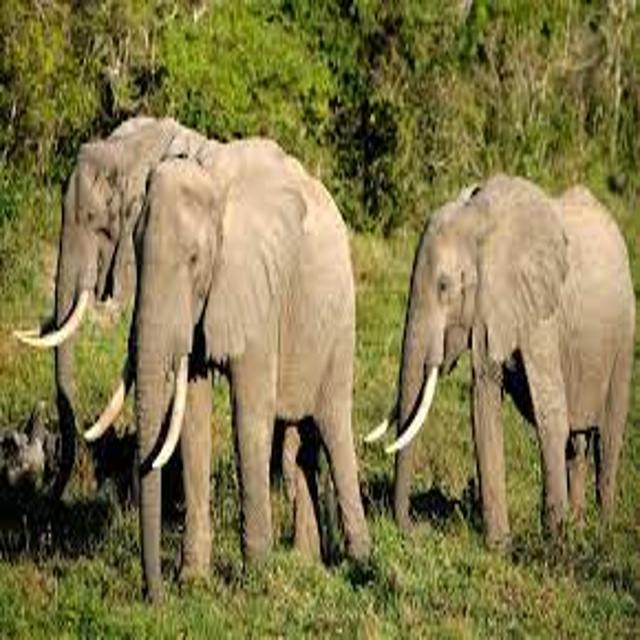elephant: (71, 120, 392, 621), (356, 138, 639, 608), (4, 86, 243, 580)
